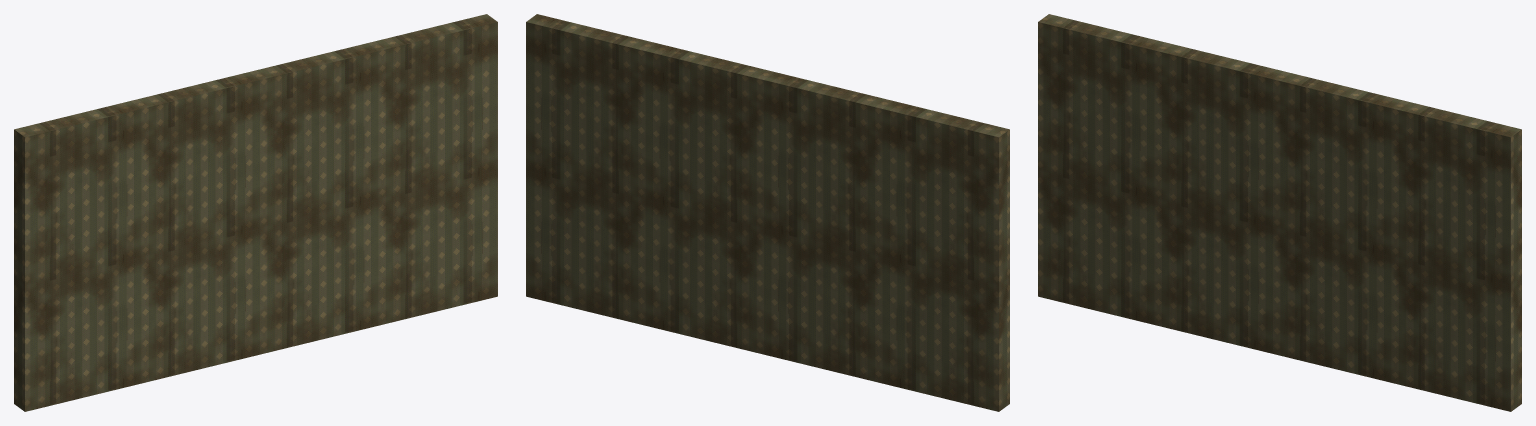
File: Wall2UnitEmpty.fbx
3 views of the same model, side by side, from view 1: azimuth 30°, elevation 25°; view 2: azimuth 150°, elevation 25°; view 3: azimuth 330°, elevation 25° (orthographic).
Visible parts, largest first — view 1: Wall2UnitEmpty; view 2: Wall2UnitEmpty; view 3: Wall2UnitEmpty.
Part boxes in pixels (box(x1,y1,x2,y2)): Wall2UnitEmpty: box(14, 14, 497, 411); Wall2UnitEmpty: box(526, 14, 1009, 411); Wall2UnitEmpty: box(1038, 14, 1521, 411).
Bounding box in the file's own units: 4.99 × 2.77 × 0.2.
Materials: 1 (1 with a texture image).
